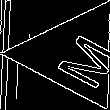M_NW: (34, 21, 110, 87)
